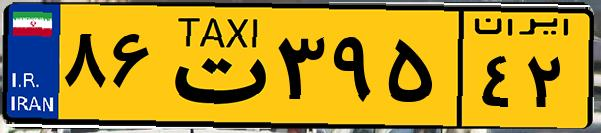2: (525, 38, 570, 115)
3: (270, 28, 330, 110)
4: (475, 38, 525, 113)
5: (385, 28, 445, 110)
6: (110, 28, 158, 98)
8: (57, 26, 110, 100)
9: (330, 28, 385, 110)
ت: (158, 12, 270, 120)
